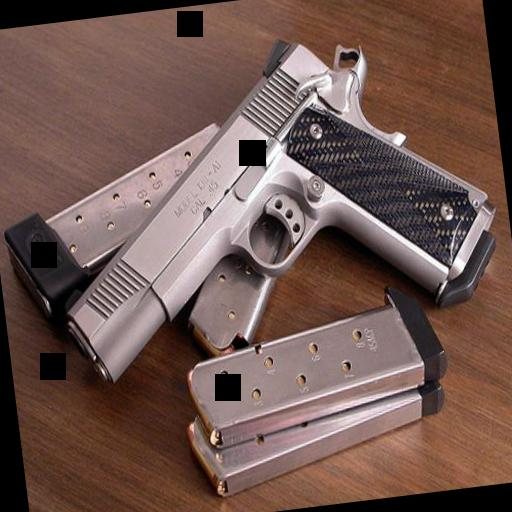Handgun: (34, 7, 512, 394)
